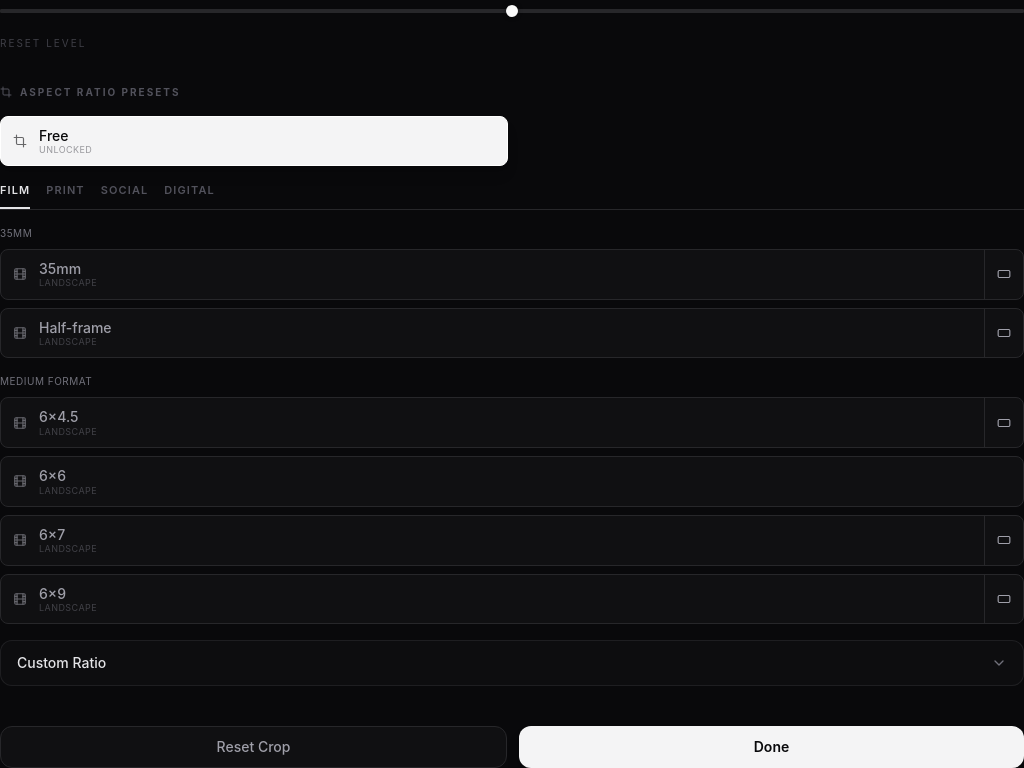
Test: CropPane › keeps custom ratio collapsed by default and expands on demand
(page scrolled)
Click the button "Custom Ratio".
click(62, 663)  # box left=1, top=641, right=1023, bottom=685
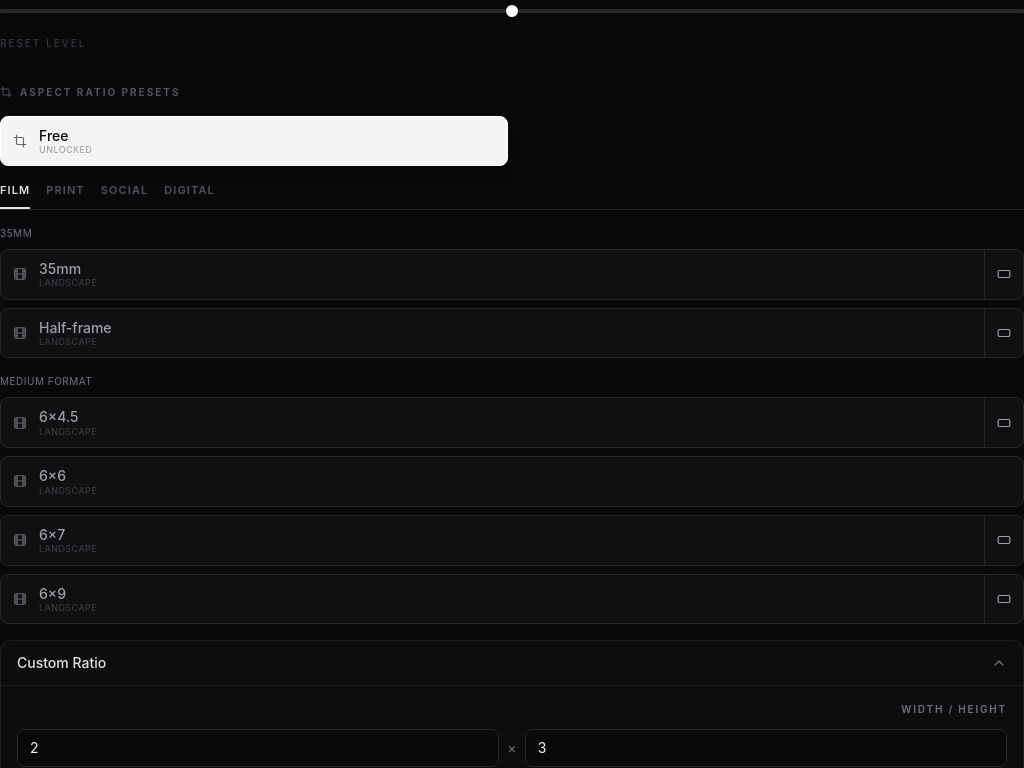
Check: the number field named "Custom crop width" is shown, box left=17, top=729, right=499, bottom=767
